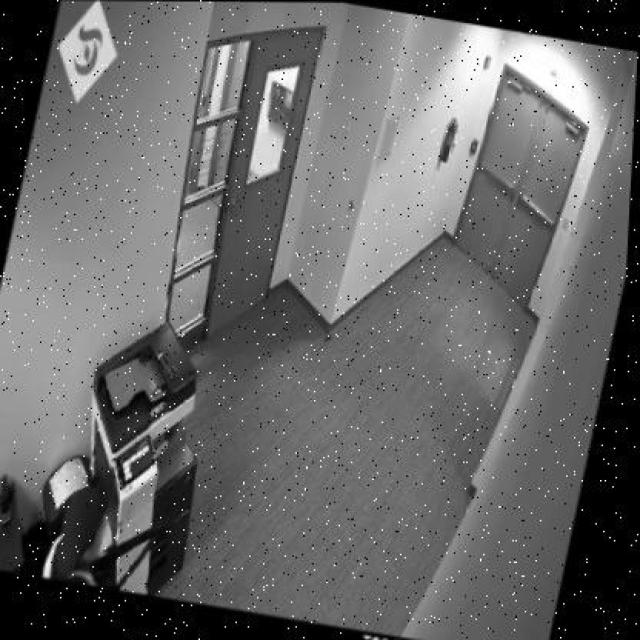weapon: (39, 510, 193, 602)
